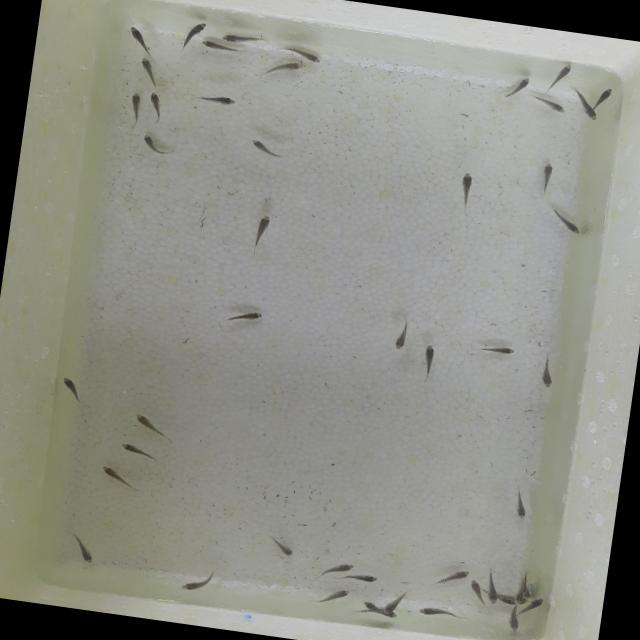fingerling: (218, 26, 273, 49), (98, 464, 140, 492), (134, 54, 166, 90), (244, 137, 287, 163), (116, 441, 162, 465), (194, 88, 242, 110), (68, 534, 100, 566), (178, 570, 218, 595), (412, 604, 462, 624), (248, 212, 274, 248), (474, 341, 518, 362), (264, 532, 298, 558), (552, 210, 585, 236), (130, 412, 165, 436), (182, 18, 210, 48), (126, 23, 154, 52), (574, 94, 600, 124), (456, 170, 475, 210), (419, 343, 437, 385), (198, 38, 234, 58), (538, 95, 568, 118), (550, 62, 576, 88), (509, 74, 535, 100), (510, 490, 531, 521), (58, 375, 84, 400), (378, 596, 406, 619), (440, 565, 473, 584), (290, 48, 326, 65), (140, 132, 169, 153), (126, 90, 144, 122), (594, 85, 616, 111), (324, 559, 356, 576), (230, 308, 264, 324), (324, 585, 354, 603), (144, 90, 164, 116), (538, 160, 554, 192), (272, 59, 306, 74), (343, 570, 379, 584), (503, 612, 522, 638), (480, 586, 502, 608), (524, 594, 546, 616), (539, 362, 555, 390), (464, 578, 482, 600), (392, 330, 408, 354), (360, 596, 378, 612), (512, 586, 526, 606)
